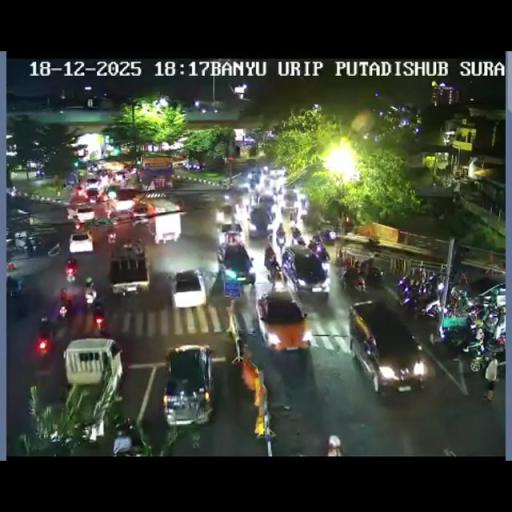Car: (349, 301, 427, 393), (162, 346, 214, 426), (256, 289, 311, 352), (62, 338, 122, 390), (281, 244, 330, 295), (216, 234, 255, 288), (109, 245, 149, 295), (142, 198, 184, 244), (170, 269, 206, 308), (247, 202, 273, 238), (474, 282, 505, 311), (215, 202, 240, 230), (280, 190, 301, 221), (255, 176, 278, 202), (69, 231, 93, 254), (128, 202, 151, 224), (71, 206, 95, 223), (85, 178, 101, 200), (268, 167, 286, 181), (114, 170, 128, 182)
Motorcycle: (440, 314, 477, 352), (477, 313, 505, 356), (440, 288, 470, 320), (83, 278, 102, 328), (398, 280, 424, 314), (113, 421, 139, 455), (6, 276, 28, 316), (339, 265, 366, 293), (36, 318, 54, 354), (360, 263, 383, 288), (468, 346, 490, 372), (422, 295, 444, 320), (464, 302, 486, 325), (264, 260, 282, 286), (50, 434, 71, 456), (24, 236, 43, 255), (58, 297, 72, 319), (434, 271, 448, 291), (362, 236, 381, 250), (65, 263, 77, 283), (320, 228, 337, 242), (276, 228, 286, 250), (107, 227, 117, 244), (248, 188, 258, 205), (132, 239, 142, 256), (122, 242, 134, 254), (294, 235, 306, 246), (74, 219, 84, 231), (266, 231, 273, 245)
